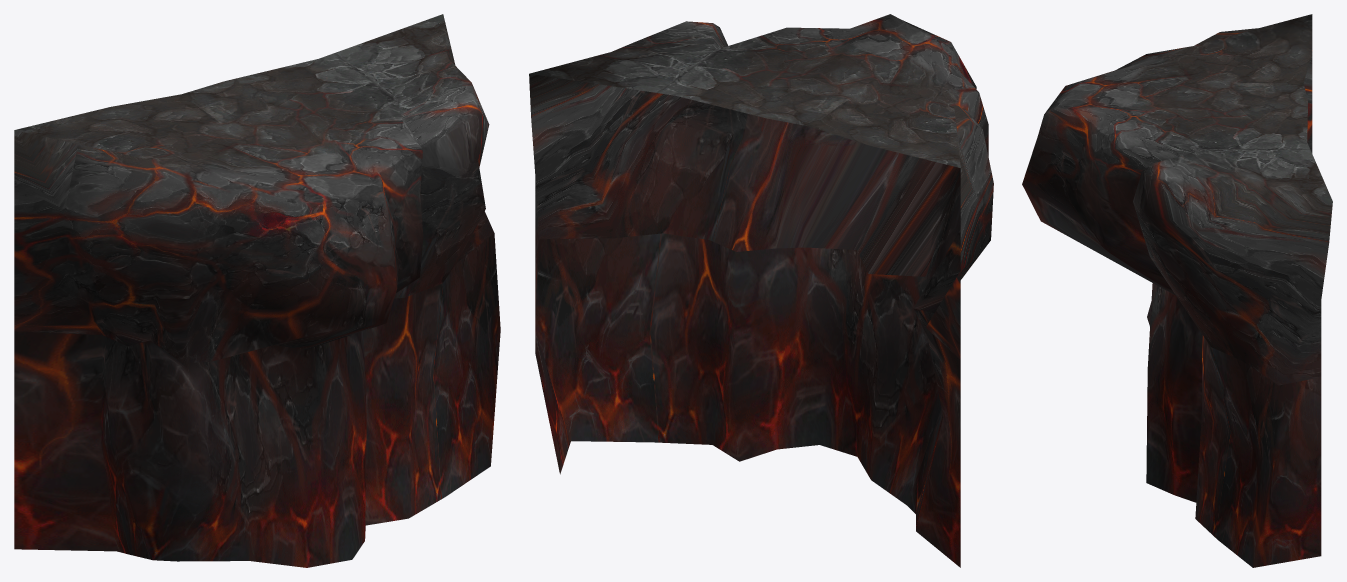
Rendered from 10504_LavaStone03.FBX.
3 views of the same model, side by side, from view 1: azimuth 30°, elevation 25°; view 2: azimuth 150°, elevation 25°; view 3: azimuth 270°, elevation 25° (orthographic). The views are drawn at different scales.
Parts seen in each view (by area): view 1: 10504_LavaStone03; view 2: 10504_LavaStone03; view 3: 10504_LavaStone03.
Boxes of the visible parts, x1,y1,x2,y2 form: 10504_LavaStone03: [14, 14, 500, 567]; 10504_LavaStone03: [529, 14, 993, 567]; 10504_LavaStone03: [1022, 14, 1332, 567].
Bounding box in the file's own units: 1236 × 1071 × 818.
